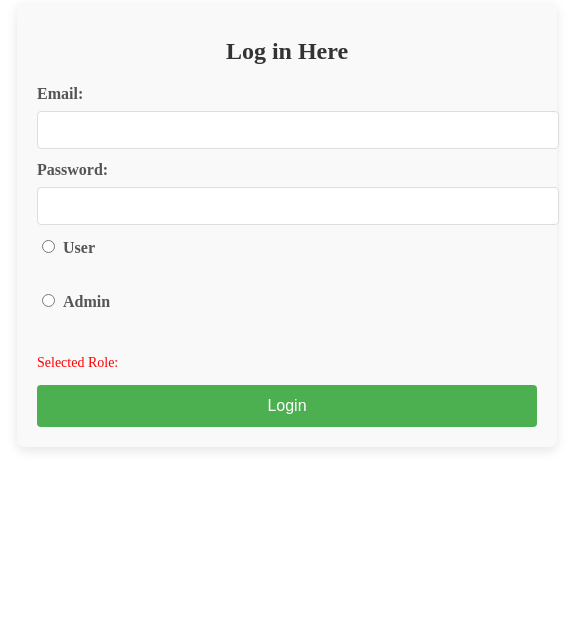
Test: LoginUser Component › displays validation errors when form is submitted empty
Click the button "Login" at x=287, y=406, box [37,385,537,427]
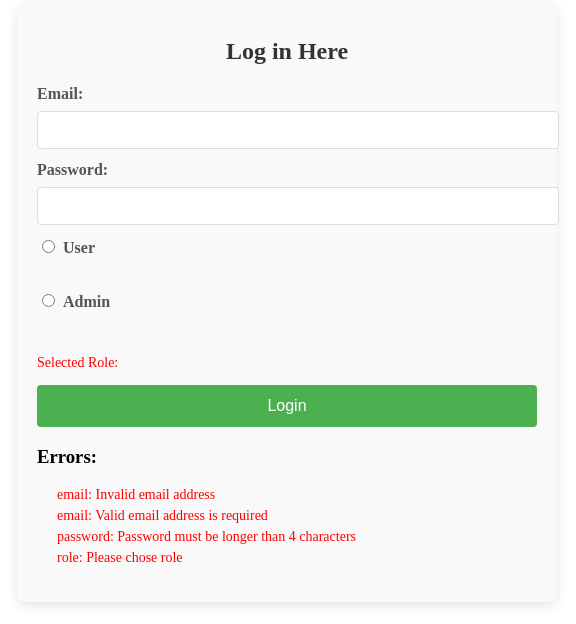
Result: the list item "email: Valid email address is required" is shown at [57,508,268,522]
Result: the list item "password: Password must be longer than 4 characters" is shown at [57,528,356,544]
Result: the list item "role: Please chose role" is shown at [57,550,183,564]
